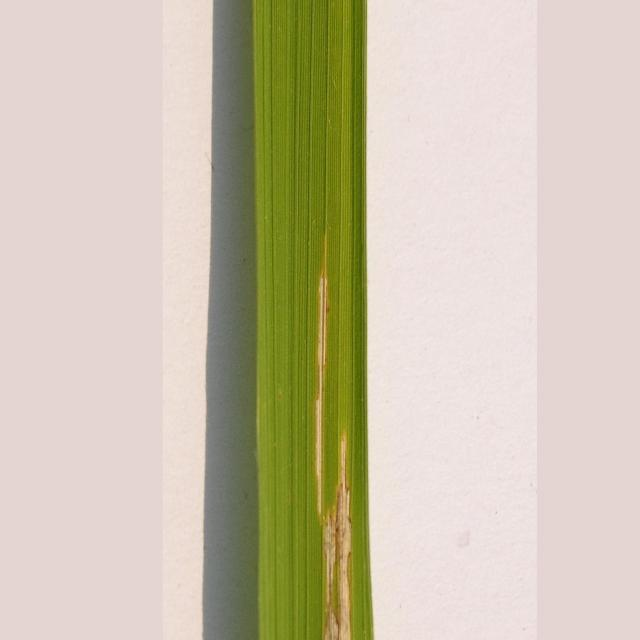Bacterial leaf blight: (234, 0, 432, 640)
